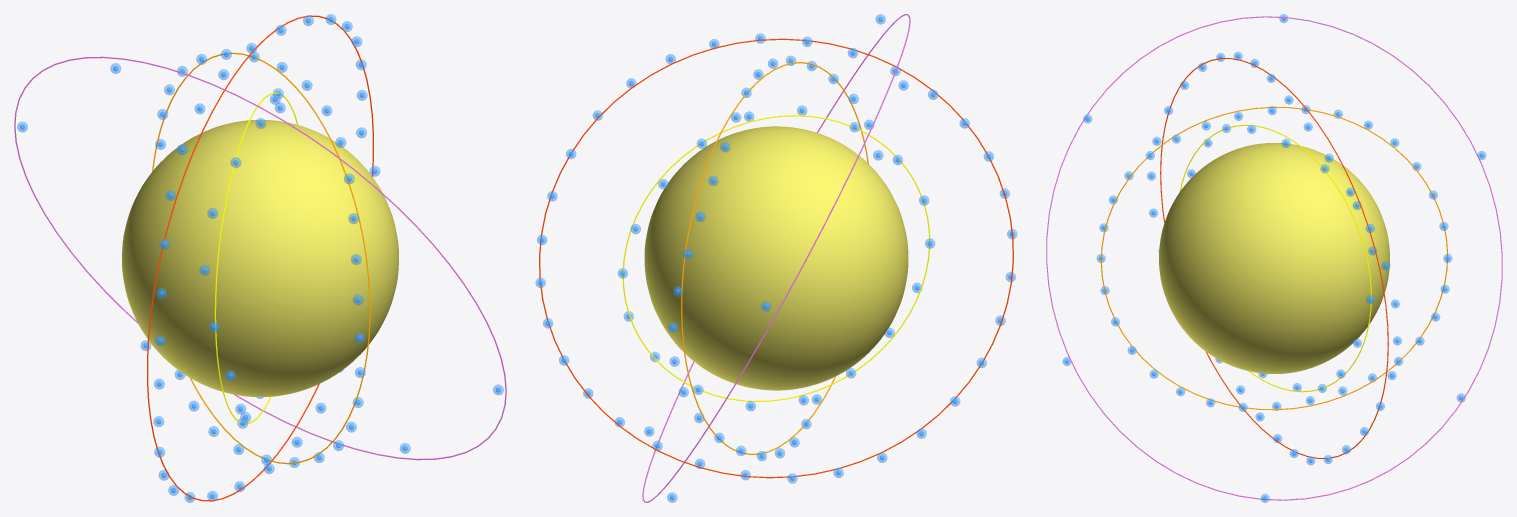
3 renders of one model, left to right at view 1: azimuth 30°, elevation 25°; view 2: azimuth 150°, elevation 25°; view 3: azimuth 270°, elevation 25°, orthographic. The views are drawn at different scales.
Parts seen in each view (by area): view 1: Cf, object 191, object 126, object 61, object 24; view 2: Cf, object 126, object 24, object 191, object 61; view 3: Cf, object 191, object 61, object 126, object 24.
Boxes of the visible parts, x1,y1,x2,y2 form: Cf: [122, 120, 398, 396]; object 191: [14, 56, 506, 460]; object 126: [147, 15, 373, 501]; object 61: [152, 52, 370, 464]; object 24: [214, 92, 298, 424]; Cf: [644, 126, 908, 390]; object 126: [539, 38, 1013, 478]; object 24: [622, 115, 930, 401]; object 191: [642, 14, 910, 502]; object 61: [681, 62, 868, 454]; Cf: [1159, 143, 1389, 373]; object 191: [1046, 16, 1502, 500]; object 61: [1100, 106, 1448, 410]; object 126: [1160, 58, 1388, 458]; object 24: [1179, 124, 1371, 392].
Bounding box in the file's own units: 6.05 × 7.43 × 7.91.
